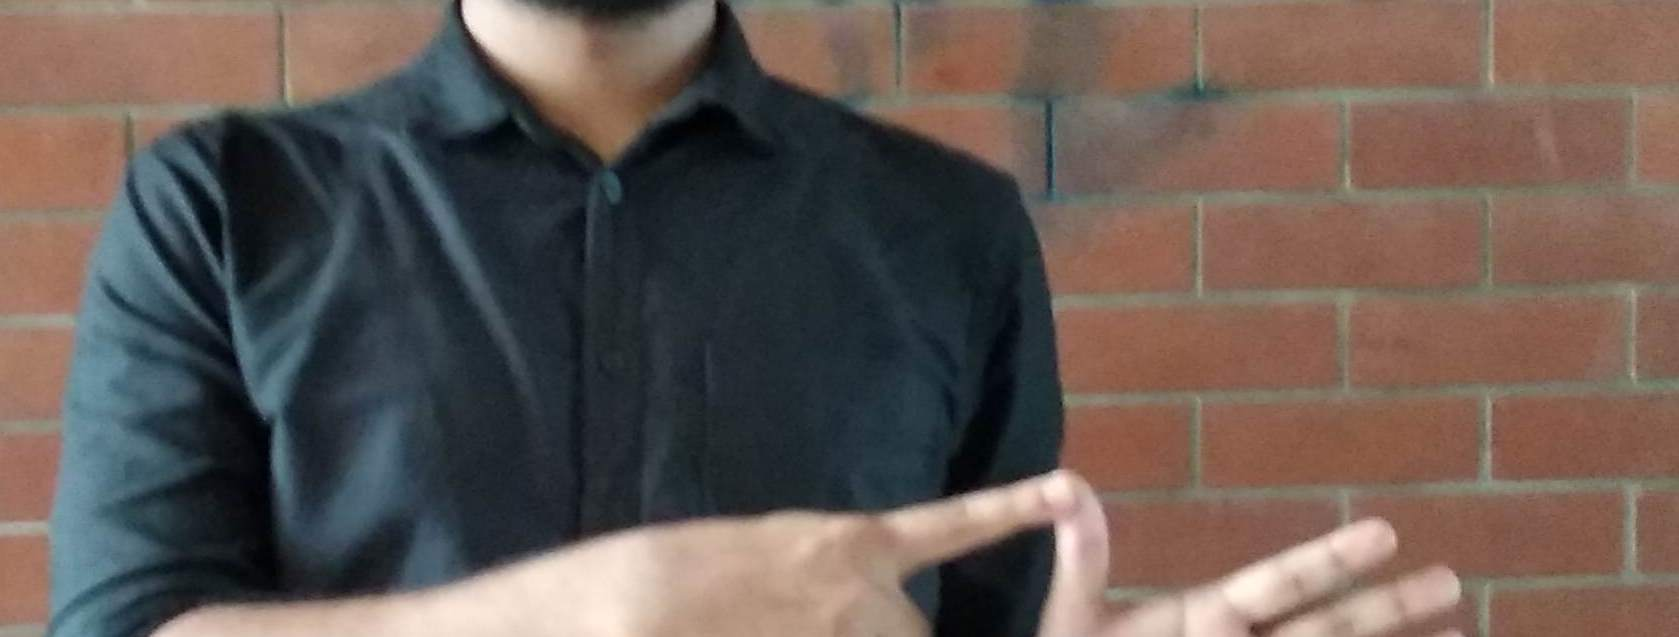a: (657, 448, 1474, 637)
